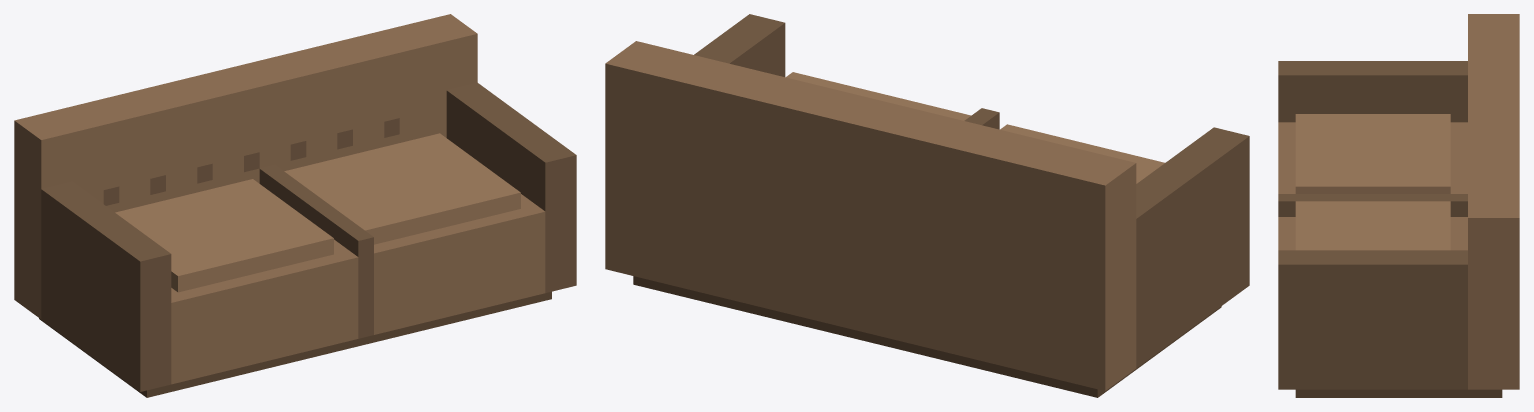
Rendered from sofa_cuero_doble_01.glb.
3 renders of one model, left to right at view 1: azimuth 30°, elevation 25°; view 2: azimuth 150°, elevation 25°; view 3: azimuth 270°, elevation 25°, orthographic. The views are drawn at different scales.
Parts seen in each view (by area): view 1: sofa_cuero_doble; view 2: sofa_cuero_doble; view 3: sofa_cuero_doble.
Boxes of the visible parts, x1,y1,x2,y2 form: sofa_cuero_doble: (14, 14, 576, 397); sofa_cuero_doble: (605, 14, 1249, 397); sofa_cuero_doble: (1278, 14, 1519, 397).
Bounding box in the file's own units: 2 × 0.8571 × 1.
